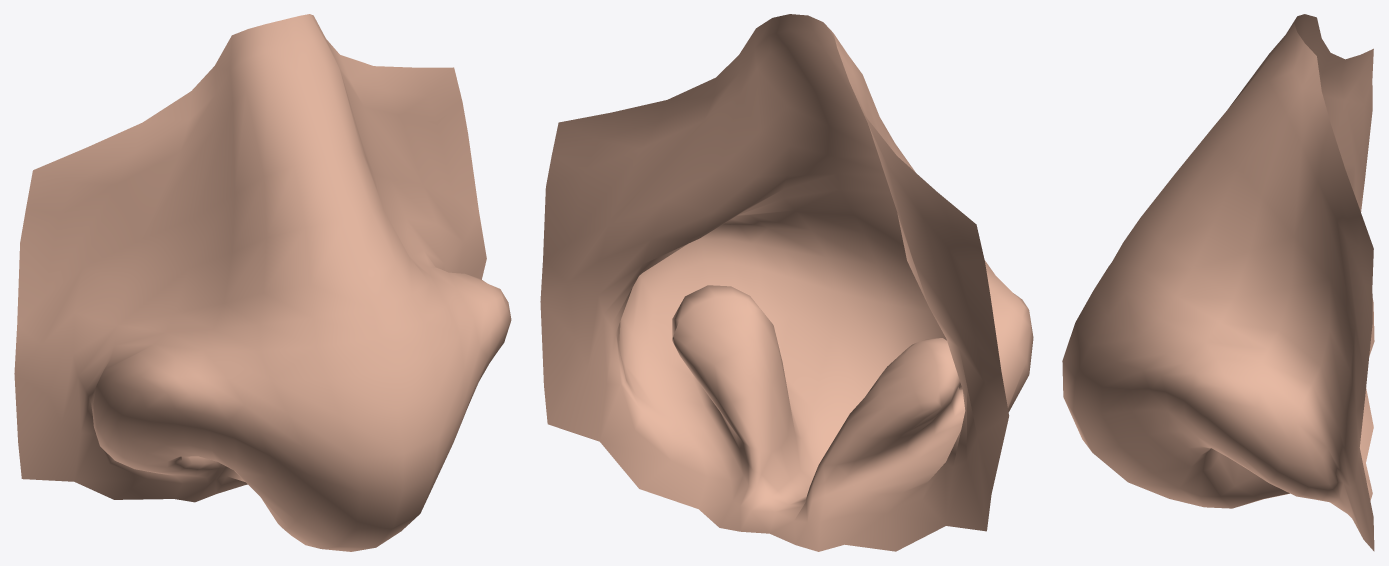
Rendered from Nose 06.glb.
3 renders of one model, left to right at view 1: azimuth 30°, elevation 25°; view 2: azimuth 150°, elevation 25°; view 3: azimuth 270°, elevation 25°, orthographic. The views are drawn at different scales.
Parts seen in each view (by area): view 1: nose06; view 2: nose06; view 3: nose06.
Part boxes in pixels (bbox=[...]): nose06: bbox=[14, 14, 511, 551]; nose06: bbox=[540, 14, 1033, 551]; nose06: bbox=[1062, 14, 1374, 551].
Bounding box in the file's own units: 0.00107 × 0.00109 × 0.000631.
